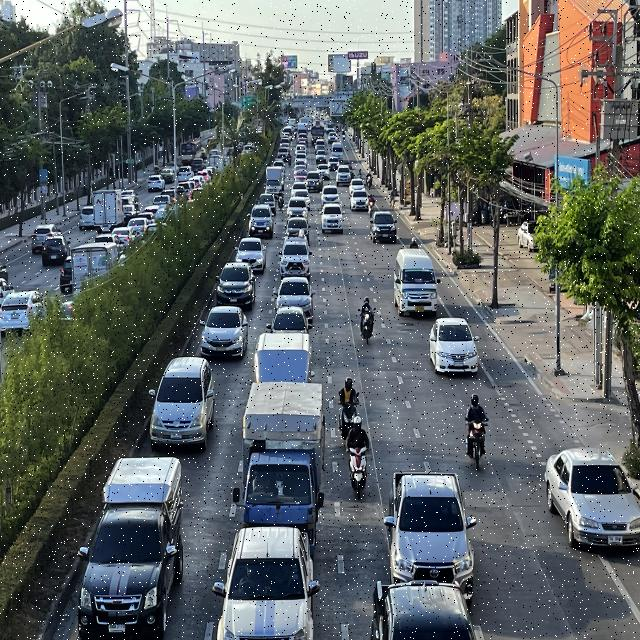bike: (345, 415, 371, 498), (463, 391, 488, 471), (337, 372, 360, 443), (357, 294, 376, 346)
car: (208, 526, 322, 640), (385, 468, 478, 604), (544, 450, 640, 549), (366, 575, 477, 640), (213, 262, 257, 310), (274, 273, 314, 325), (265, 306, 313, 335), (234, 237, 267, 273)
truck: (76, 454, 184, 640), (236, 384, 325, 556), (254, 332, 314, 385), (277, 233, 314, 280)
